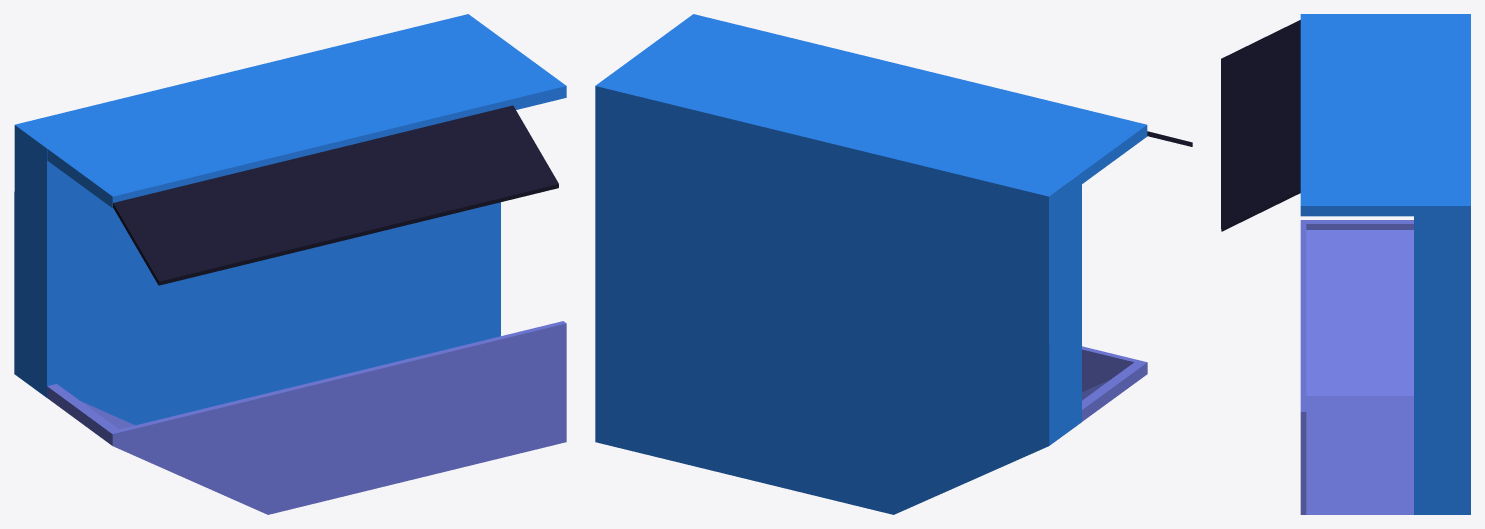
3 renders of one model, left to right at view 1: azimuth 30°, elevation 25°; view 2: azimuth 150°, elevation 25°; view 3: azimuth 270°, elevation 25°, orthographic. The views are drawn at different scales.
Visible parts, largest first — view 1: Mesh_0.003; view 2: Mesh_0.003; view 3: Mesh_0.003.
Part boxes in pixels (box(x1,y1,x2,y2)): Mesh_0.003: box(14, 14, 566, 514); Mesh_0.003: box(595, 14, 1192, 514); Mesh_0.003: box(1221, 14, 1470, 514).
Bounding box in the file's own units: 4 × 3 × 2.2.
